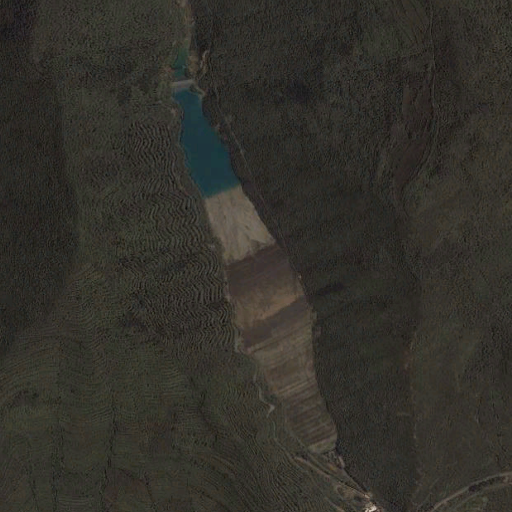tp: (172, 76, 338, 455)
